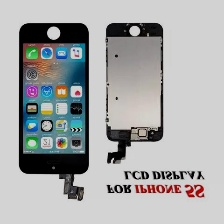phone: (15, 20, 90, 178), (101, 20, 165, 146)
